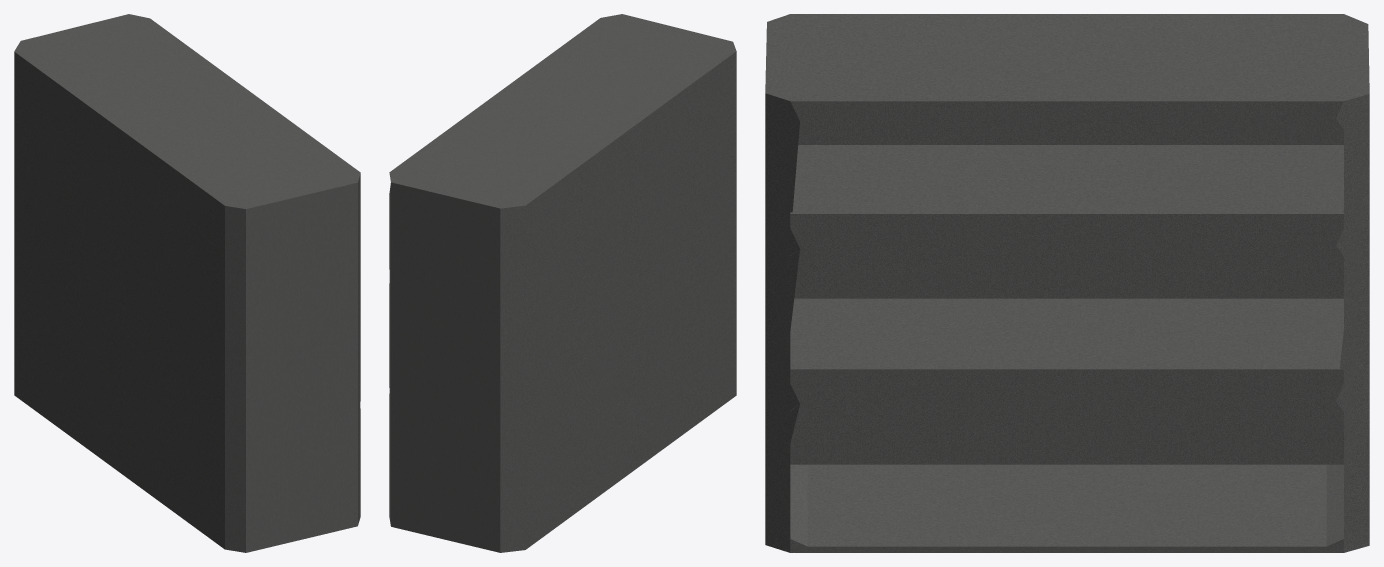
File: ikea_coffin.fbx
The picture shows the model from 3 angles, left to right: view 1: azimuth 30°, elevation 25°; view 2: azimuth 150°, elevation 25°; view 3: azimuth 270°, elevation 25°; orthographic projection. The views are drawn at different scales.
Visible parts, largest first — view 1: Cube; view 2: Cube; view 3: Cube.
Part boxes in pixels (<box>): Cube: <box>14,14,360,552</box>; Cube: <box>389,14,736,552</box>; Cube: <box>765,14,1369,552</box>.
Size of the model in its own units: 482 by 397 by 164.
